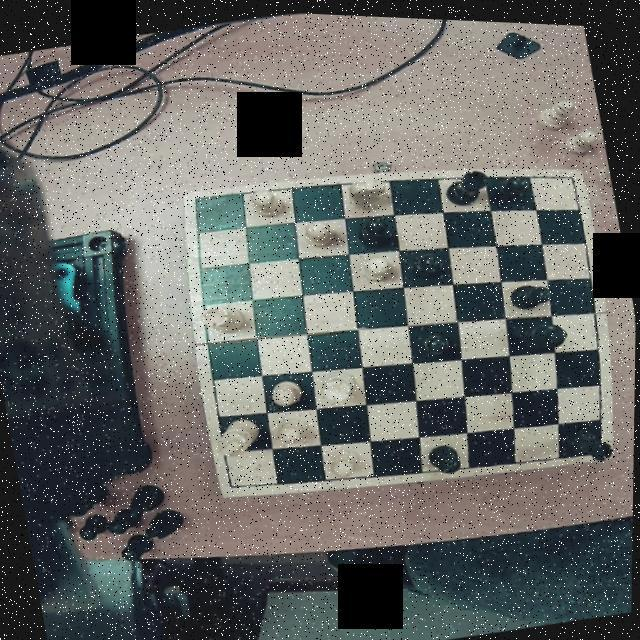chess-table-corners: (184, 187, 214, 214), (218, 468, 246, 496), (583, 436, 615, 458), (560, 164, 586, 188)
